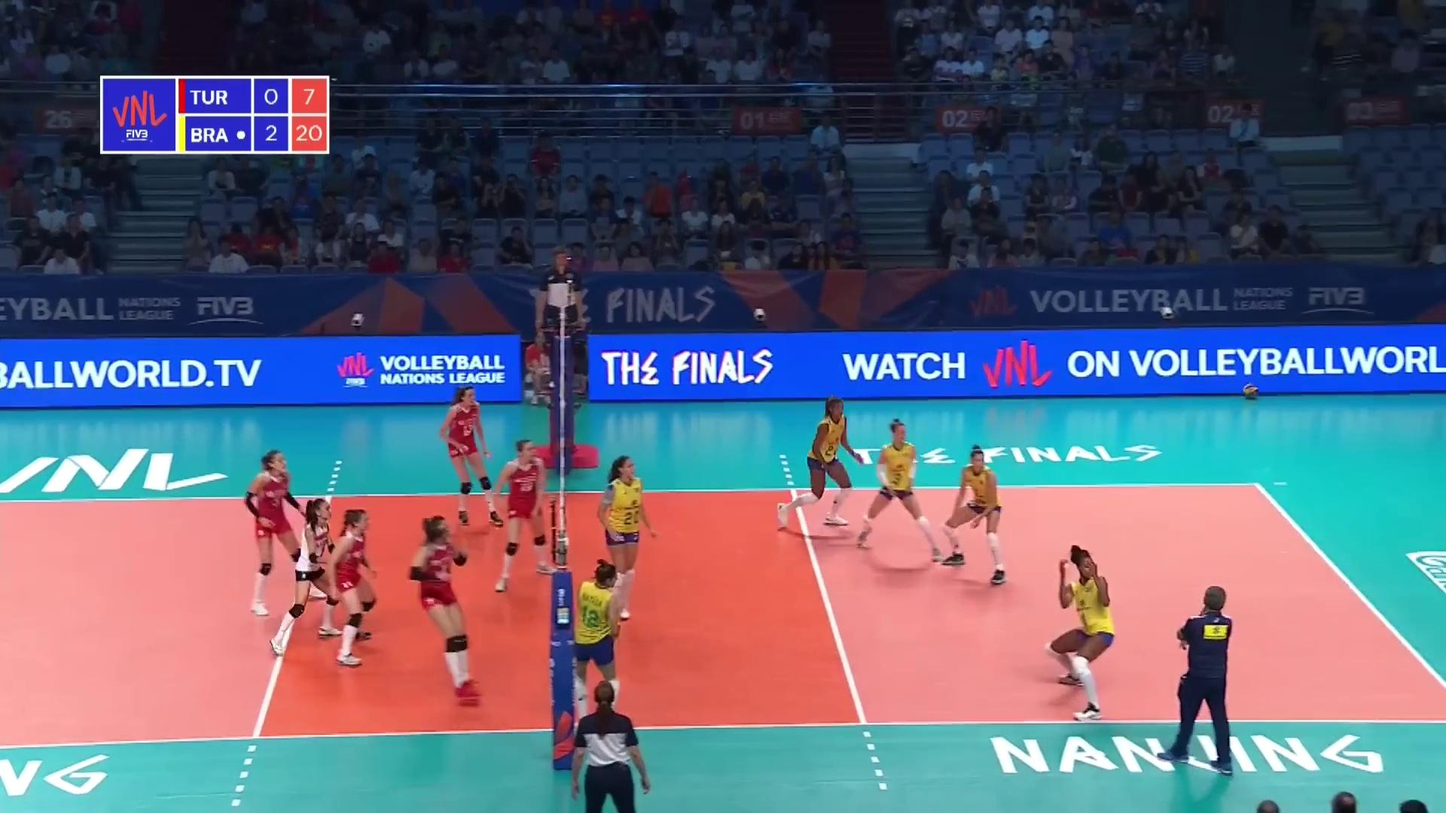player: (245, 450, 329, 615), (409, 516, 483, 699), (856, 419, 944, 563), (776, 399, 866, 532), (1045, 548, 1114, 719), (272, 498, 344, 655), (596, 454, 655, 632), (495, 437, 558, 594), (943, 445, 1008, 584), (327, 506, 384, 663), (442, 388, 503, 526), (575, 562, 624, 731)
refree: (567, 683, 649, 813), (535, 248, 587, 391)
